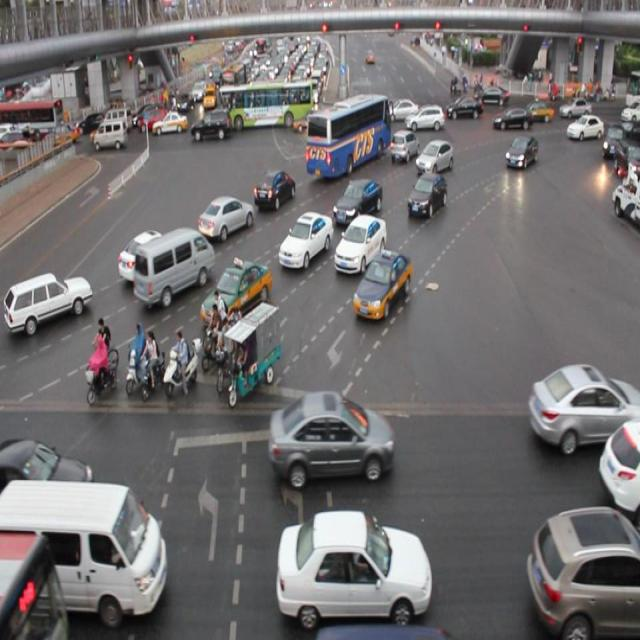car: (277, 504, 431, 620), (524, 503, 640, 640), (269, 390, 393, 480), (526, 357, 640, 454), (1, 432, 94, 502), (1, 268, 92, 332), (202, 259, 272, 329), (353, 247, 412, 327), (598, 421, 640, 533), (278, 211, 332, 269), (334, 215, 386, 273), (116, 229, 170, 279), (330, 177, 382, 224), (198, 196, 253, 237), (406, 175, 445, 217), (254, 170, 295, 205), (503, 135, 536, 170), (417, 140, 452, 172), (389, 129, 418, 161)
truck: (0, 477, 168, 622), (136, 230, 216, 306)
van: (1, 525, 69, 640), (307, 93, 390, 176)
